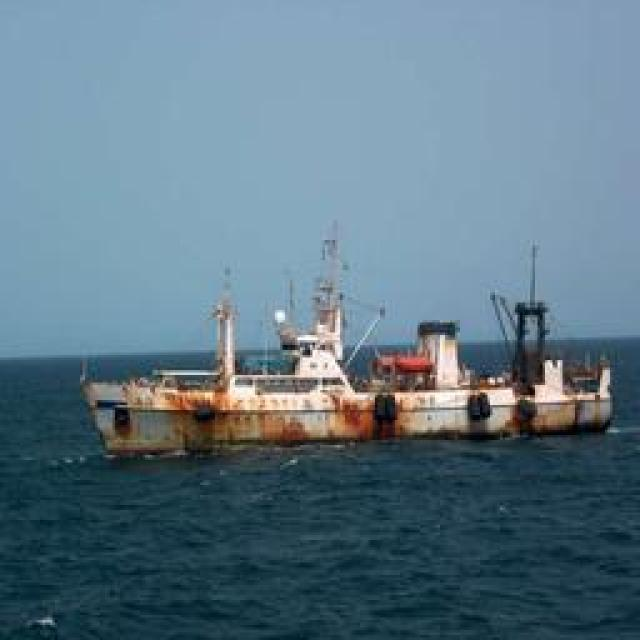ship: (94, 220, 606, 445)
